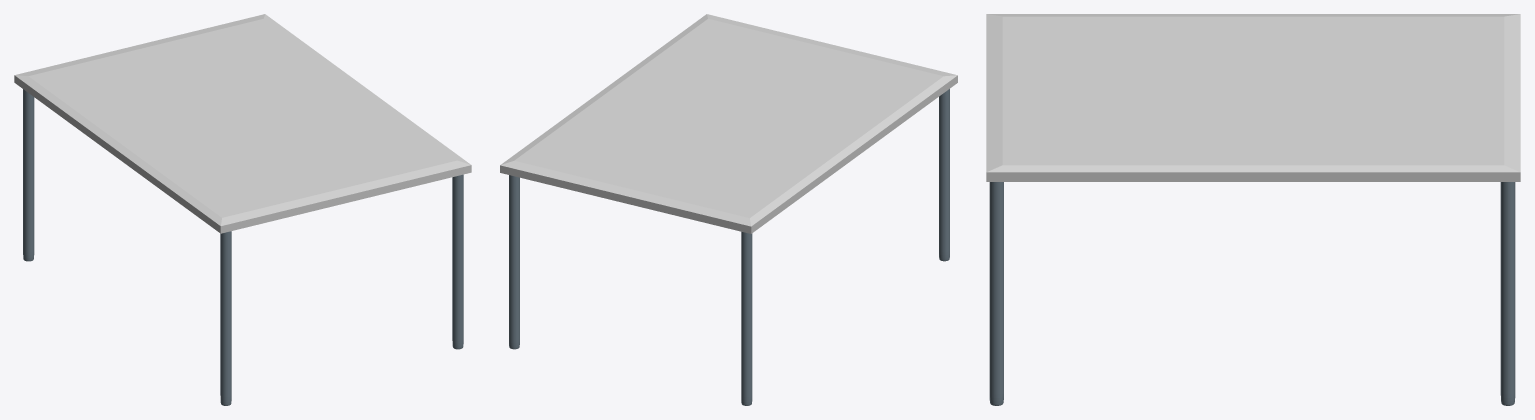
The model's file is table.fbx.
The picture shows the model from 3 angles, left to right: view 1: azimuth 30°, elevation 25°; view 2: azimuth 150°, elevation 25°; view 3: azimuth 270°, elevation 25°; orthographic projection. The views are drawn at different scales.
Visible parts, largest first — view 1: Cube, Cylinder.003, Cylinder.002, Cylinder; view 2: Cube, Cylinder, Cylinder.001, Cylinder.002; view 3: Cube, Cylinder.001, Cylinder.003.
Part boxes in pixels (x1,y1,x2,y2): Cube: (14, 14, 471, 233); Cylinder.003: (452, 174, 463, 349); Cylinder.002: (220, 231, 231, 405); Cylinder: (23, 89, 34, 261); Cube: (500, 14, 957, 233); Cylinder: (741, 232, 752, 405); Cylinder.001: (509, 175, 519, 349); Cylinder.002: (939, 89, 949, 261); Cube: (986, 14, 1520, 181); Cylinder.001: (1500, 182, 1515, 405); Cylinder.003: (989, 182, 1003, 405).
Bounding box in the file's own units: 478 × 337 × 682.
